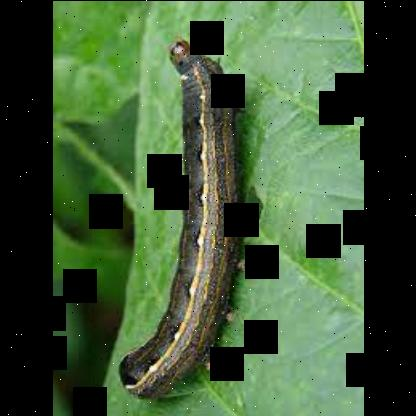oruga: (100, 40, 262, 408)
